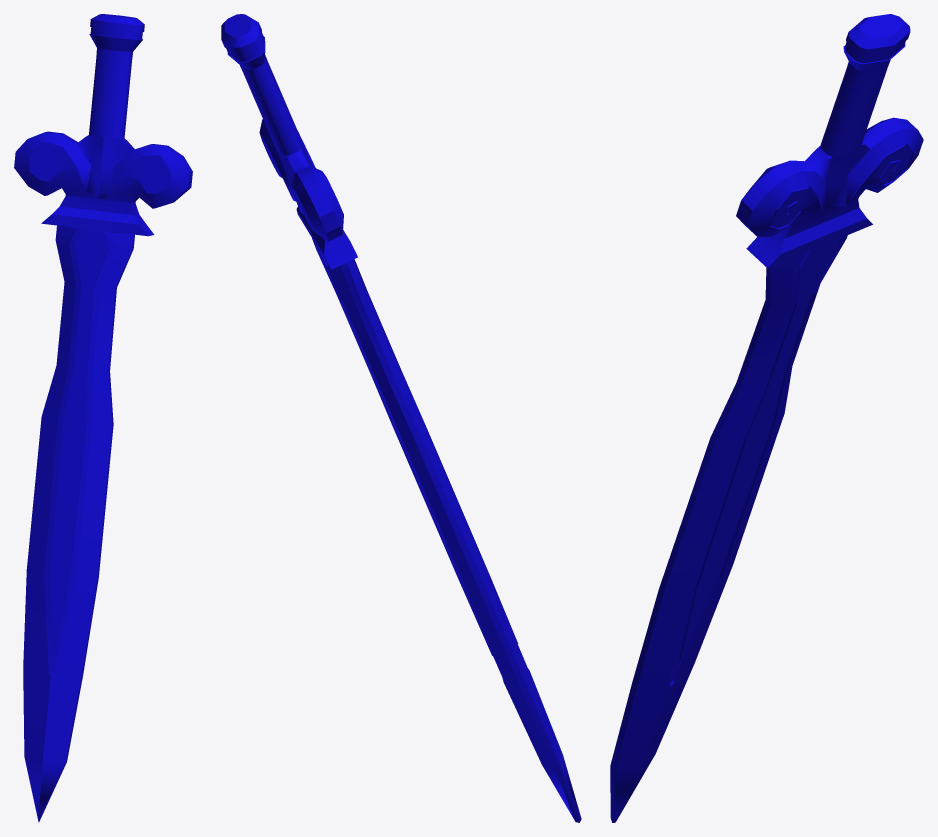
File: PaperAndKnife.fbx
The picture shows the model from 3 angles, left to right: view 1: azimuth 30°, elevation 25°; view 2: azimuth 150°, elevation 25°; view 3: azimuth 270°, elevation 25°; orthographic projection. The views are drawn at different scales.
Parts seen in each view (by area): view 1: Knife (×2); view 2: Knife (×2); view 3: Knife (×2).
Boxes of the visible parts, left/top/right/bottom form: Knife (×2): left=14, top=14, right=192, bottom=822; Knife (×2): left=221, top=14, right=581, bottom=822; Knife (×2): left=610, top=14, right=923, bottom=822.
Size of what is drawn, in the model's own units: 23.53 by 74.77 by 23.12.
